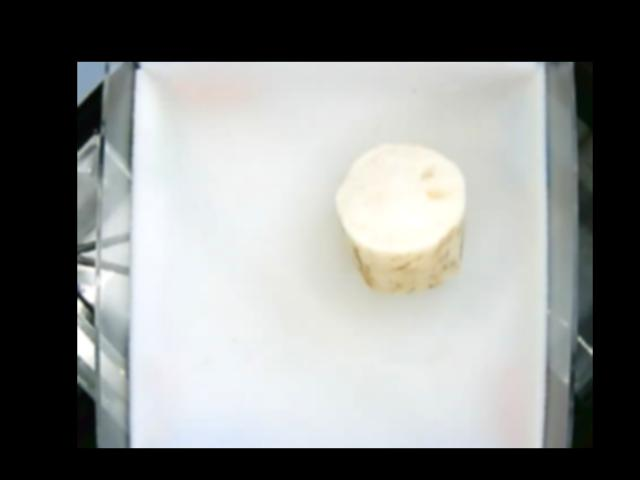Mooli: (335, 140, 467, 294)
